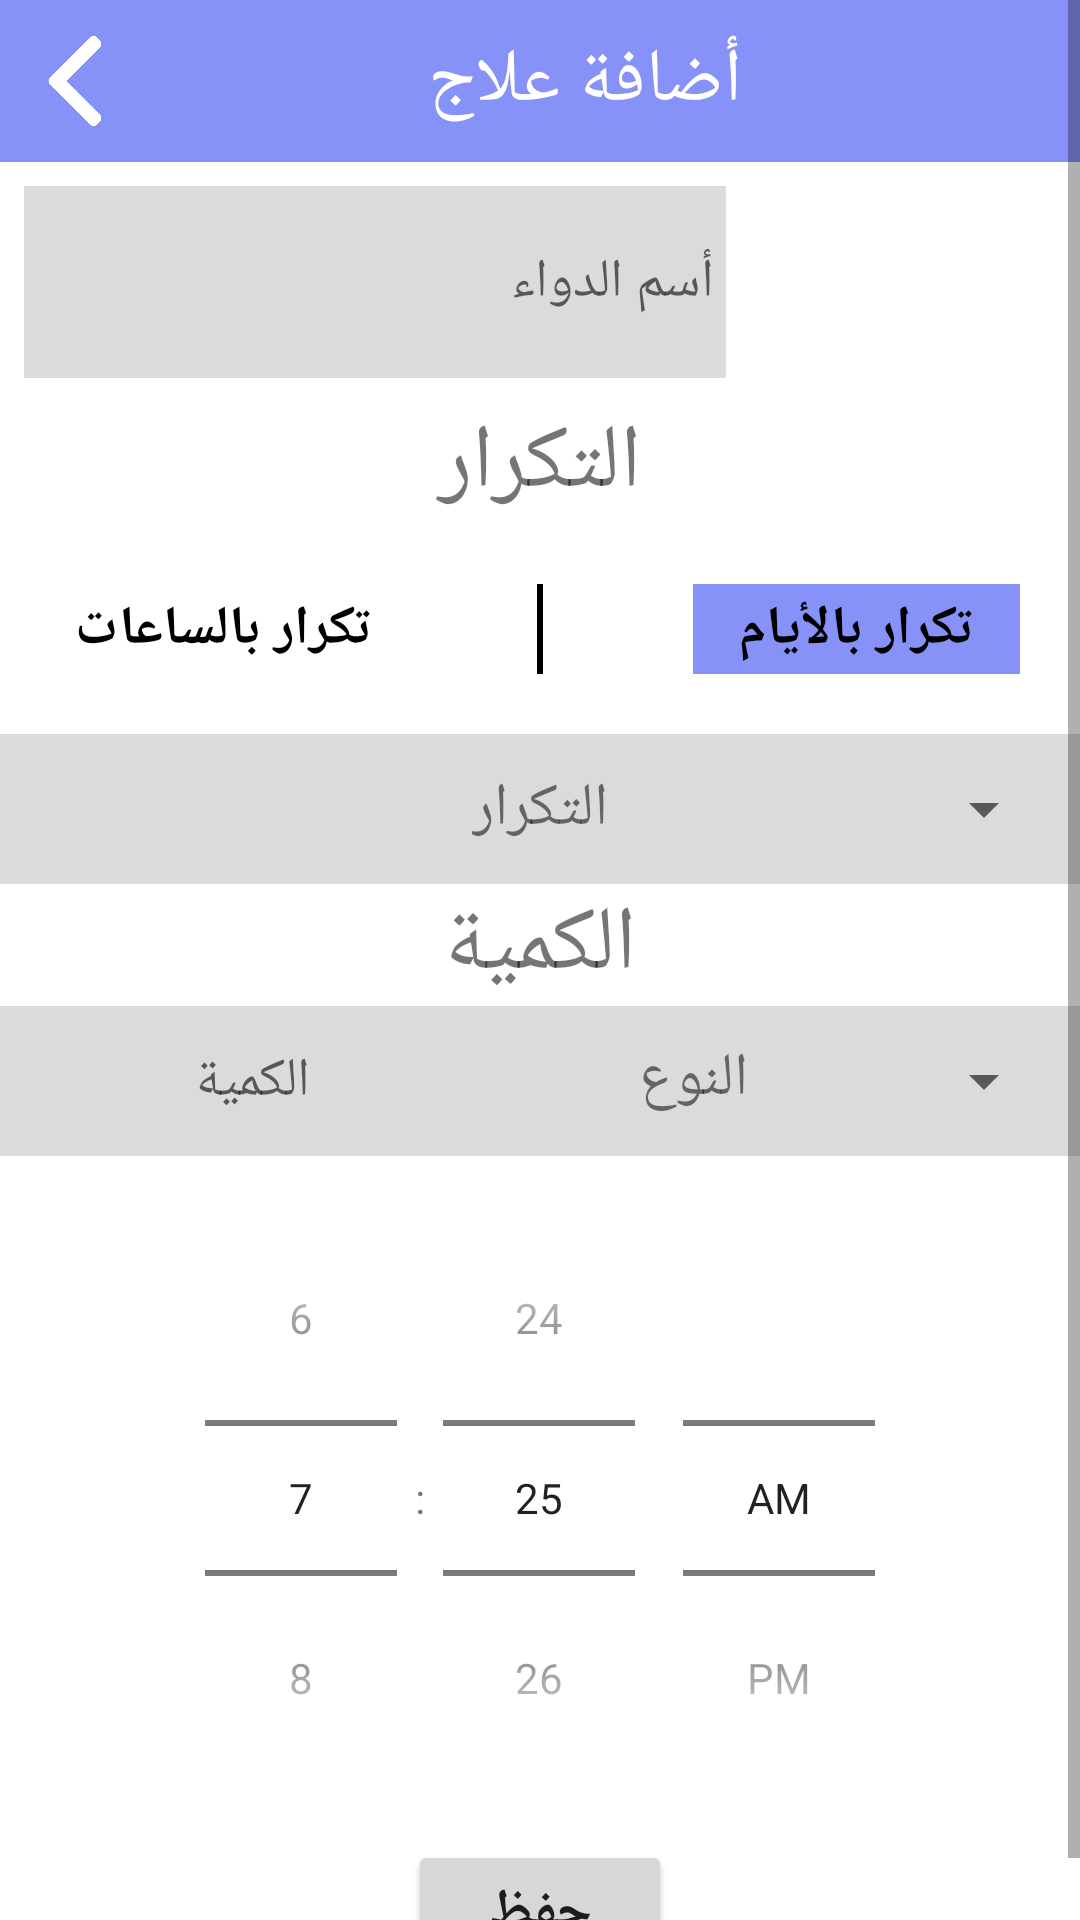

Point at icon controls on the screen. Image size 1080x1920, points as (x=x, y=y).
back: (x=75, y=81)
